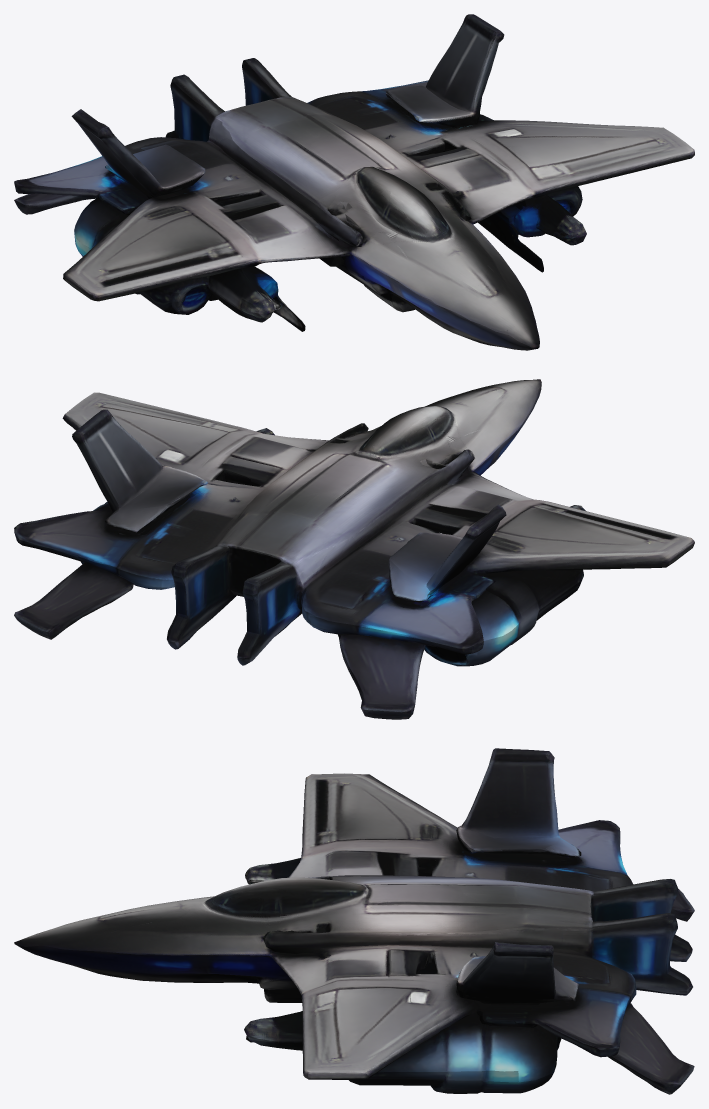
The model's file is futuristic_fighter_jet.glb.
The picture shows the model from 3 angles, top to bottom: view 1: azimuth 30°, elevation 25°; view 2: azimuth 150°, elevation 25°; view 3: azimuth 270°, elevation 25°; orthographic projection.
Visible parts, largest first — view 1: Aeroplane 1_0; view 2: Aeroplane 1_0; view 3: Aeroplane 1_0.
Part boxes in pixels (x1=…): Aeroplane 1_0: x1=14, y1=14, x2=694, y2=350; Aeroplane 1_0: x1=14, y1=379, x2=694, y2=719; Aeroplane 1_0: x1=14, y1=748, x2=694, y2=1094.
Bounding box in the file's own units: 15.46 × 3.75 × 14.88.
Materials: 1 (1 with a texture image).
